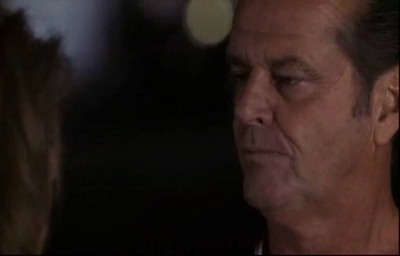cu: (1, 1, 400, 256)
face: (228, 1, 397, 254), (227, 1, 355, 208)
